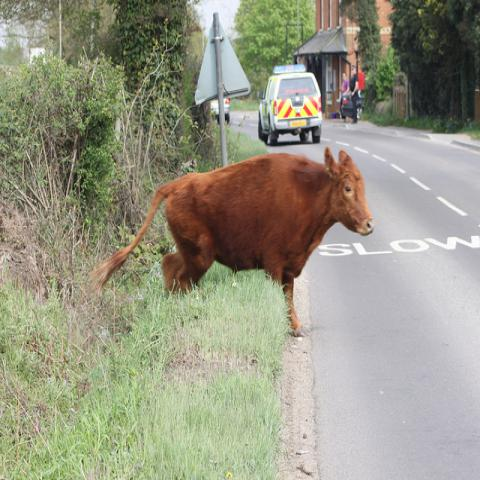car: (258, 72, 324, 143), (341, 94, 366, 120), (211, 98, 230, 123)
truck: (257, 64, 323, 146)
